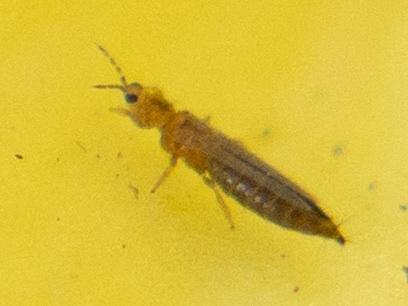tiny_pests: (72, 31, 377, 292)
